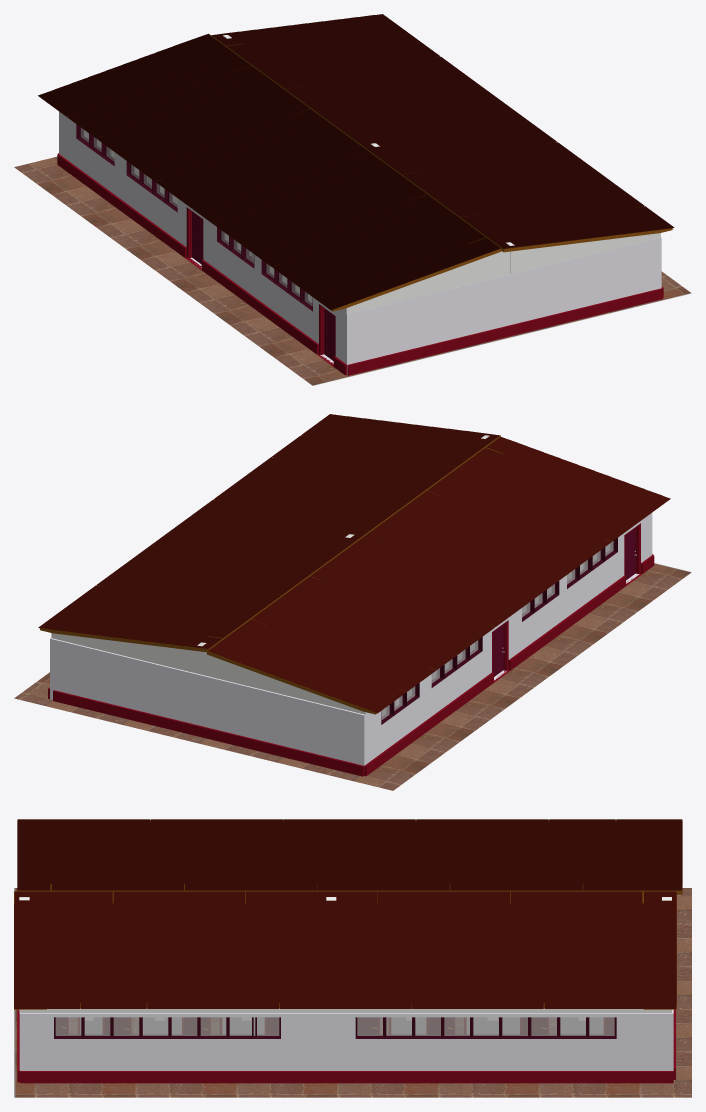
3 views of the same model, one above another, from view 1: azimuth 30°, elevation 25°; view 2: azimuth 150°, elevation 25°; view 3: azimuth 270°, elevation 25° (orthographic). The views are drawn at different scales.
Parts seen in each view (by area): view 1: Tuile_1_222, Tuile_1_218, wall_11_71, room_32_198, wall_12_78, wall_11_69, wall_12_76, wall_6_34, wall_5_28, sweethome3d_opening_on_hinge_1_Exterior_door_2_PAINT_gloss_white, Poutre_1_3_220, Planche_4_225 (+2 smaller); view 2: Tuile_1_222, Tuile_1_218, wall_13_86, room_32_198, wall_12_78, wall_13_84, wall_12_76, wall_1_5, wall_2_11, sweethome3d_opening_on_hinge_1_Exterior_door_2_PAINT_gloss_white, Planche_4_221, Poutre_1_3_224 (+1 smaller); view 3: Tuile_1_218, Tuile_1_222, wall_9_55, room_32_198, wall_9_53, wall_8_46, wall_16_104, Planche_4_225, wall_17_110, Planche_4_221, wall_9_57, sweethome3d_window_pane_267 (+16 smaller).
Boxes of the visible parts, box(x1,y1,x2,y2) form: Tuile_1_222: box(38, 34, 500, 309); Tuile_1_218: box(212, 14, 674, 248); wall_11_71: box(347, 239, 653, 364); room_32_198: box(14, 156, 690, 385); wall_12_78: box(59, 111, 347, 374); wall_11_69: box(347, 288, 662, 375); wall_12_76: box(57, 154, 346, 375); wall_6_34: box(344, 251, 510, 314); wall_5_28: box(510, 233, 660, 274); sweethome3d_opening_on_hinge_1_Exterior_door_2_PAINT_gloss_white: box(192, 212, 334, 360); Poutre_1_3_220: box(501, 228, 672, 252); Planche_4_225: box(68, 33, 501, 309); Tuile_1_222: box(208, 437, 670, 713); Tuile_1_218: box(38, 414, 499, 648); wall_13_86: box(57, 640, 356, 763); room_32_198: box(14, 563, 690, 790); wall_12_78: box(360, 513, 652, 765); wall_13_84: box(53, 690, 364, 776); wall_12_76: box(364, 555, 654, 776); wall_1_5: box(51, 633, 201, 674); wall_2_11: box(201, 651, 367, 714); sweethome3d_opening_on_hinge_1_Exterior_door_2_PAINT_gloss_white: box(492, 528, 635, 676); Planche_4_221: box(39, 435, 500, 649); Poutre_1_3_224: box(207, 651, 377, 714); Tuile_1_218: box(14, 891, 676, 1008); Tuile_1_222: box(17, 819, 682, 890); wall_9_55: box(19, 1013, 673, 1070); room_32_198: box(15, 888, 691, 1097); wall_9_53: box(19, 1071, 673, 1083); wall_8_46: box(19, 1008, 661, 1012); wall_16_104: box(391, 1017, 603, 1034); Planche_4_225: box(17, 820, 682, 891); wall_17_110: box(80, 1017, 264, 1034); Planche_4_221: box(14, 891, 676, 1008); wall_9_57: box(19, 1011, 673, 1013); sweethome3d_window_pane_267: box(55, 1017, 81, 1035).
Size of the model in its own units: 197 by 44.8 by 269.
17 materials, 1 textured.
